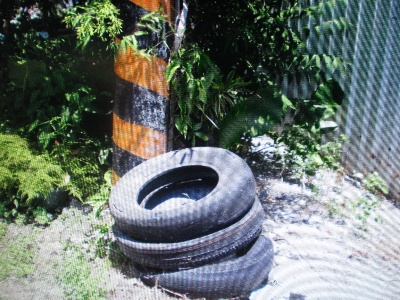tire: (108, 146, 258, 241), (116, 196, 270, 270), (149, 234, 278, 297)
